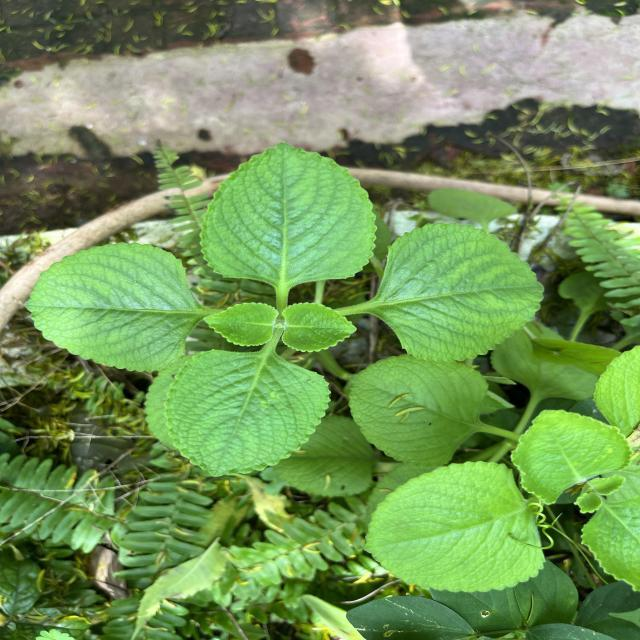Plectranthus barbatus: (198, 140, 378, 284), (362, 460, 547, 594), (378, 222, 547, 364), (24, 240, 199, 374), (162, 352, 326, 478), (347, 352, 489, 470), (508, 408, 634, 506), (280, 301, 360, 353), (203, 301, 279, 348)
